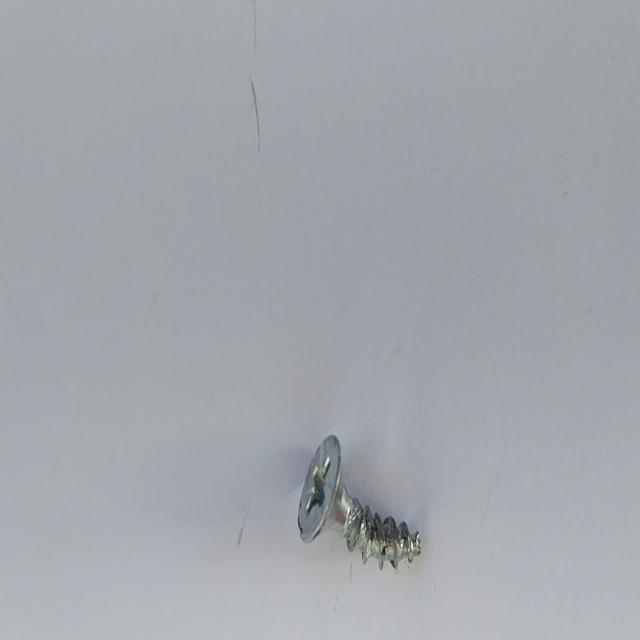Screw: (298, 435, 421, 570)
